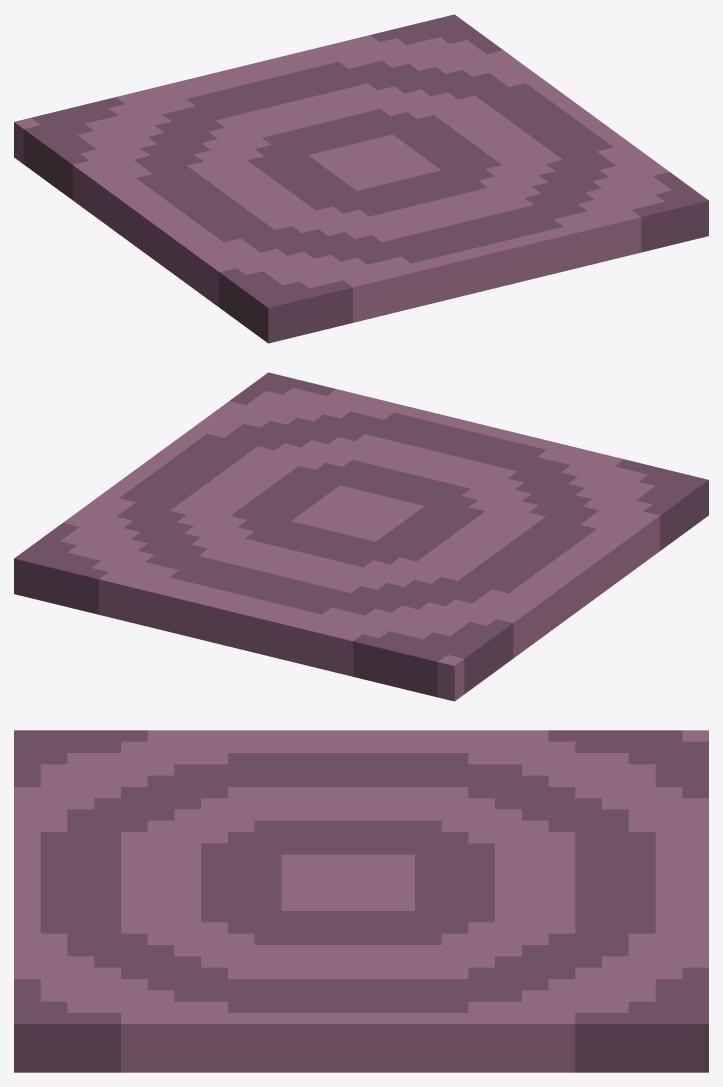
Rendered from alfombra_redonda_01.glb.
3 renders of one model, top to bottom at view 1: azimuth 30°, elevation 25°; view 2: azimuth 150°, elevation 25°; view 3: azimuth 270°, elevation 25°, orthographic. The views are drawn at different scales.
Visible parts, largest first — view 1: alfombra_redonda; view 2: alfombra_redonda; view 3: alfombra_redonda.
Boxes of the visible parts, x1,y1,x2,y2 form: alfombra_redonda: (14, 14, 708, 343); alfombra_redonda: (14, 372, 708, 701); alfombra_redonda: (14, 730, 708, 1072).
Size of the model in its own units: 2 by 0.1538 by 2.
